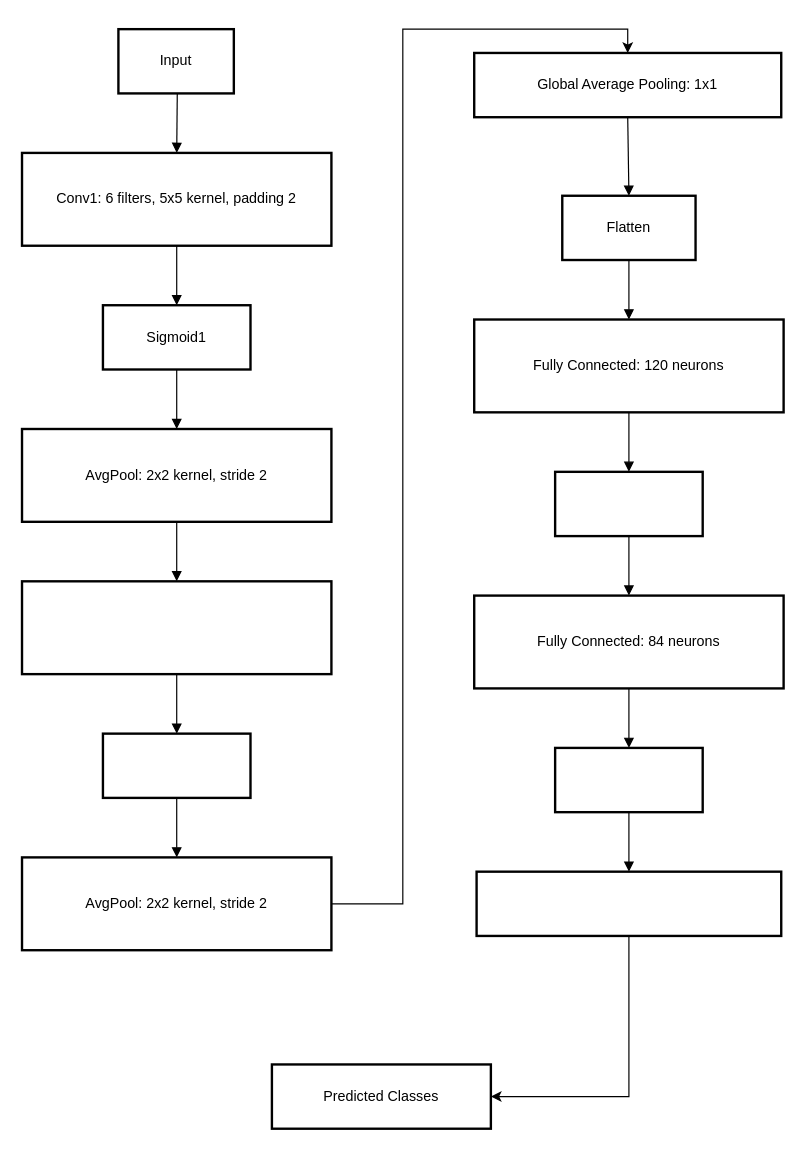
Image size: 804x1151. Some labels were removed from this diagram. Here are the shapes that lost their labels. From the top down, the box of each, then its label:
(553, 470, 703, 537): Sigmoid3
(20, 580, 332, 675): Conv2: 16 filters, 5x5 kernel
(101, 732, 251, 798): Sigmoid2
(553, 746, 703, 813): Sigmoid4
(475, 870, 782, 937): Fully Connected
